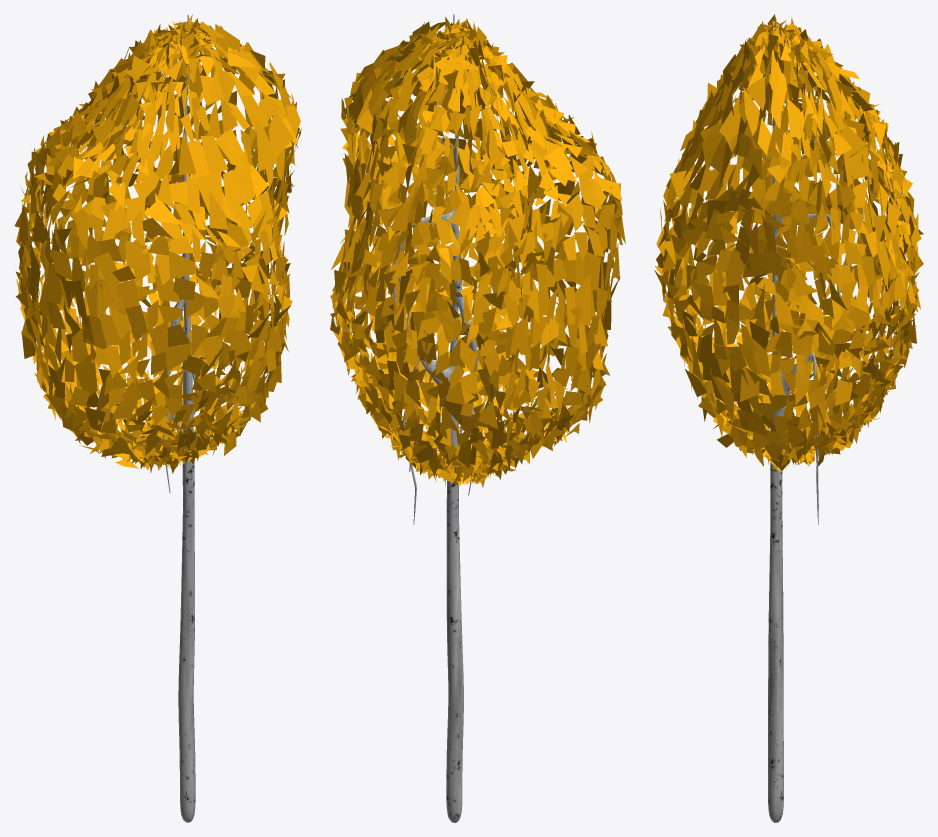
The model's file is Leaves43.002.fbx.
The picture shows the model from 3 angles, left to right: view 1: azimuth 30°, elevation 25°; view 2: azimuth 150°, elevation 25°; view 3: azimuth 270°, elevation 25°; orthographic projection.
Visible parts, largest first — view 1: Leaves43.002; view 2: Leaves43.002; view 3: Leaves43.002.
Part boxes in pixels (left/top/right/bottom): Leaves43.002: left=14, top=14, right=301, bottom=822; Leaves43.002: left=330, top=14, right=625, bottom=822; Leaves43.002: left=654, top=14, right=923, bottom=822.
Bounding box in the file's own units: 873 × 2574 × 783.
2 materials, 1 textured.
